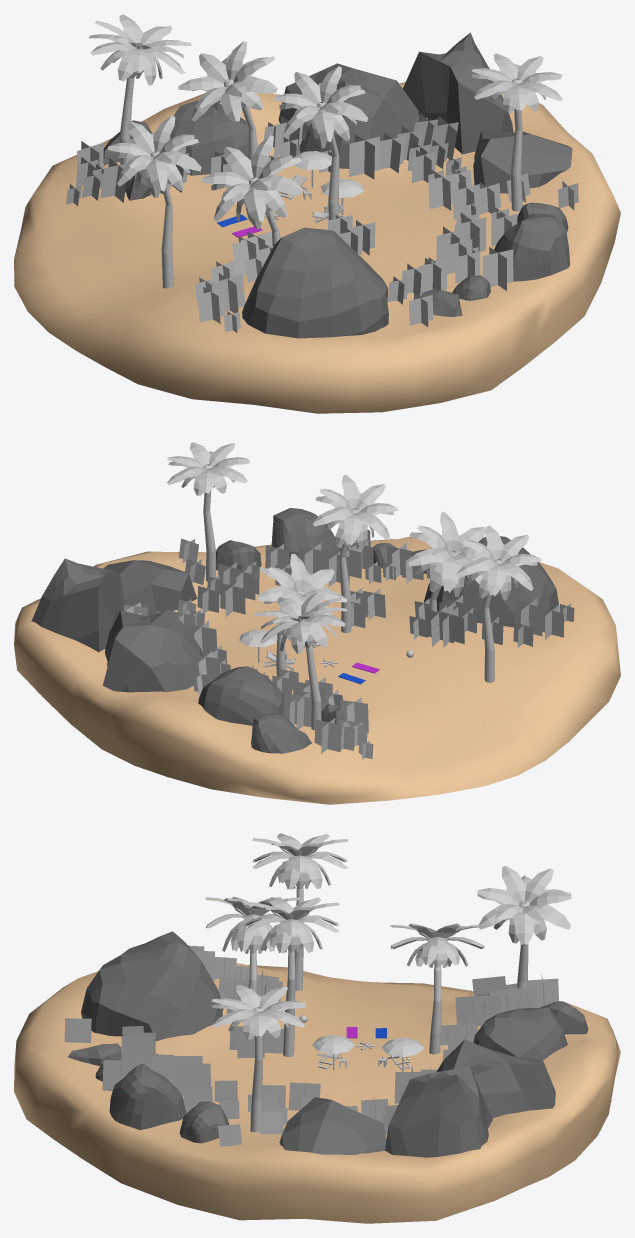
The model's file is PLAYA.fbx.
3 renders of one model, top to bottom at view 1: azimuth 30°, elevation 25°; view 2: azimuth 150°, elevation 25°; view 3: azimuth 270°, elevation 25°, orthographic. The views are drawn at different scales.
Visible parts, largest first — view 1: Playa, Rocas, Palma_hoja_01.006, Palma_hoja_01.004, Palma_hoja_01, Palma_hoja_01.001, Palma_hoja_01.003, Palma_hoja_01.002, vegetacion_basecolor_01.045, vegetacion_basecolor_01.059, vegetacion_basecolor_01.053, vegetacion_basecolor_01.041 (+14 smaller); view 2: Playa, Rocas, Palma_hoja_01.006, Palma_hoja_01, Palma_hoja_01.003, Palma_hoja_01.004, Palma_hoja_01.002, Palma_hoja_01.001, vegetacion_basecolor_01.005, vegetacion_basecolor_01.024, vegetacion_basecolor_01.053, vegetacion_basecolor_01.065 (+11 smaller); view 3: Playa, Rocas, Palma_hoja_01.003, Palma_hoja_01.002, Palma_hoja_01, Palma_hoja_01.006, Palma_hoja_01.001, Palma_hoja_01.004, vegetacion_basecolor_01.056, vegetacion_basecolor_01.069, vegetacion_basecolor_01.059, vegetacion_basecolor_01.030 (+7 smaller).
Boxes of the visible parts, x1=… form: Playa: x1=14, y1=82, x2=620, y2=413; Rocas: x1=103, y1=32, x2=572, y2=338; Palma_hoja_01.006: x1=107, y1=115, x2=201, y2=288; Palma_hoja_01.004: x1=201, y1=135, x2=303, y2=246; Palma_hoja_01: x1=274, y1=66, x2=368, y2=220; Palma_hoja_01.001: x1=178, y1=41, x2=278, y2=159; Palma_hoja_01.003: x1=89, y1=14, x2=190, y2=164; Palma_hoja_01.002: x1=471, y1=53, x2=562, y2=211; vegetacion_basecolor_01.045: x1=349, y1=134, x2=379, y2=179; vegetacion_basecolor_01.059: x1=482, y1=247, x2=513, y2=290; vegetacion_basecolor_01.053: x1=428, y1=172, x2=456, y2=210; vegetacion_basecolor_01.041: x1=197, y1=287, x2=226, y2=323; Playa: x1=14, y1=536, x2=620, y2=804; Rocas: x1=31, y1=508, x2=559, y2=753; Palma_hoja_01.006: x1=456, y1=525, x2=541, y2=682; Palma_hoja_01: x1=312, y1=474, x2=397, y2=632; Palma_hoja_01.003: x1=254, y1=589, x2=347, y2=730; Palma_hoja_01.004: x1=407, y1=511, x2=485, y2=611; Palma_hoja_01.002: x1=167, y1=442, x2=249, y2=581; Palma_hoja_01.001: x1=257, y1=554, x2=347, y2=676; vegetacion_basecolor_01.005: x1=314, y1=718, x2=341, y2=753; vegetacion_basecolor_01.024: x1=514, y1=598, x2=543, y2=636; vegetacion_basecolor_01.053: x1=220, y1=580, x2=245, y2=616; vegetacion_basecolor_01.065: x1=425, y1=605, x2=453, y2=646; Playa: x1=14, y1=963, x2=620, y2=1223; Rocas: x1=68, y1=931, x2=588, y2=1157; Palma_hoja_01.003: x1=477, y1=866, x2=571, y2=988; Palma_hoja_01.002: x1=211, y1=984, x2=305, y2=1132; Palma_hoja_01: x1=244, y1=897, x2=339, y2=1056; Palma_hoja_01.006: x1=252, y1=833, x2=347, y2=990; Palma_hoja_01.001: x1=390, y1=923, x2=484, y2=1054; Palma_hoja_01.004: x1=205, y1=896, x2=300, y2=993; vegetacion_basecolor_01.056: x1=175, y1=1063, x2=210, y2=1095; vegetacion_basecolor_01.069: x1=467, y1=990, x2=500, y2=1026; vegetacion_basecolor_01.059: x1=102, y1=1057, x2=137, y2=1090; vegetacion_basecolor_01.030: x1=64, y1=1018, x2=91, y2=1042.
Size of the model in its own units: 4323 by 1660 by 4358.
